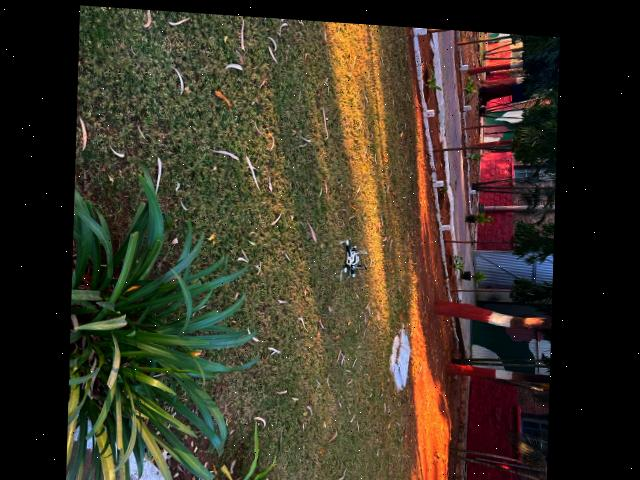drone: (330, 201, 387, 303)
